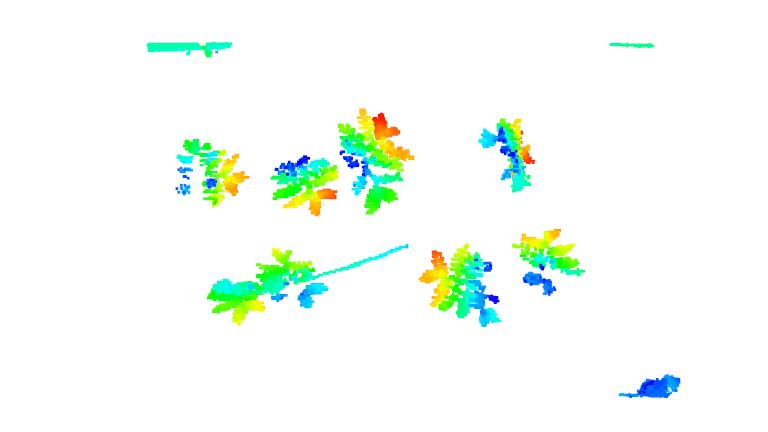chickpea: (337, 108, 417, 216), (421, 244, 505, 329), (175, 137, 249, 205), (516, 227, 586, 292), (257, 247, 327, 309), (480, 116, 536, 192), (273, 154, 337, 217), (208, 276, 267, 325)
